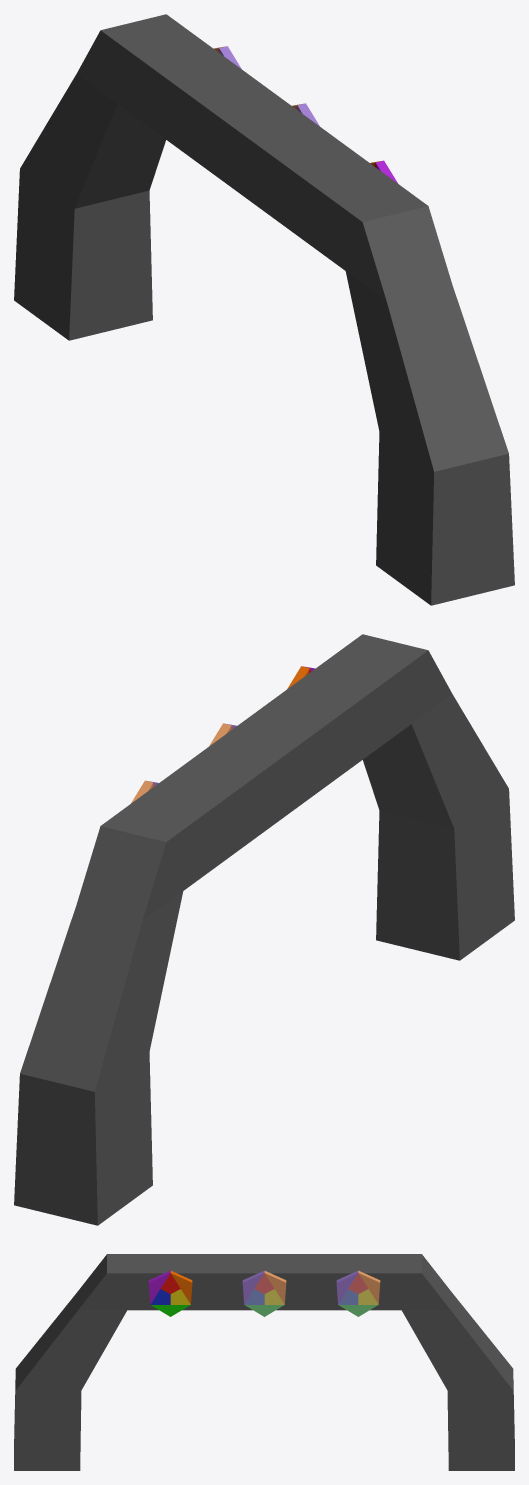
The model's file is LapStart.fbx.
3 views of the same model, one above another, from view 1: azimuth 30°, elevation 25°; view 2: azimuth 150°, elevation 25°; view 3: azimuth 270°, elevation 25° (orthographic). The views are drawn at different scales.
Visible parts, largest first — view 1: Cube.201; view 2: Cube.201; view 3: Cube.201, Cube.001, Cube.002, Cube.000.
Part boxes in pixels (x1,y1,x2,y2): Cube.201: (14, 14, 514, 605); Cube.201: (14, 634, 514, 1225); Cube.201: (14, 1254, 514, 1470); Cube.001: (242, 1270, 286, 1316); Cube.002: (336, 1270, 380, 1316); Cube.000: (148, 1270, 192, 1316).
Size of the model in its own units: 5.84 by 21.93 by 50.34.
